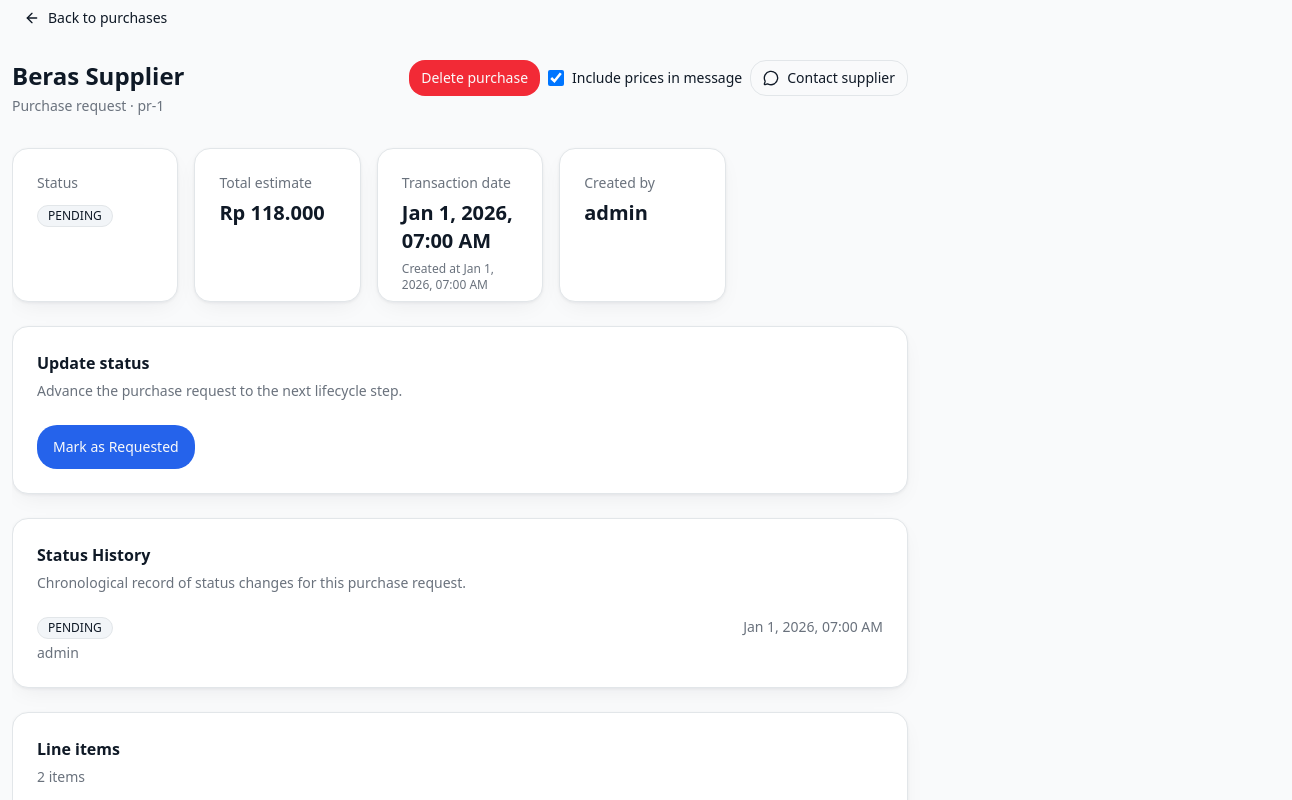
Test case: AdminPurchaseDetailContent › marks PENDING purchase as REQUESTED without opening photo modal
This screenshot has width=1292, height=800.
Expected: the heading "Beras Supplier" is shown, [12,60,184,92]
Click the button "Mark as Requested" at (116, 447), box [37,425,195,469]
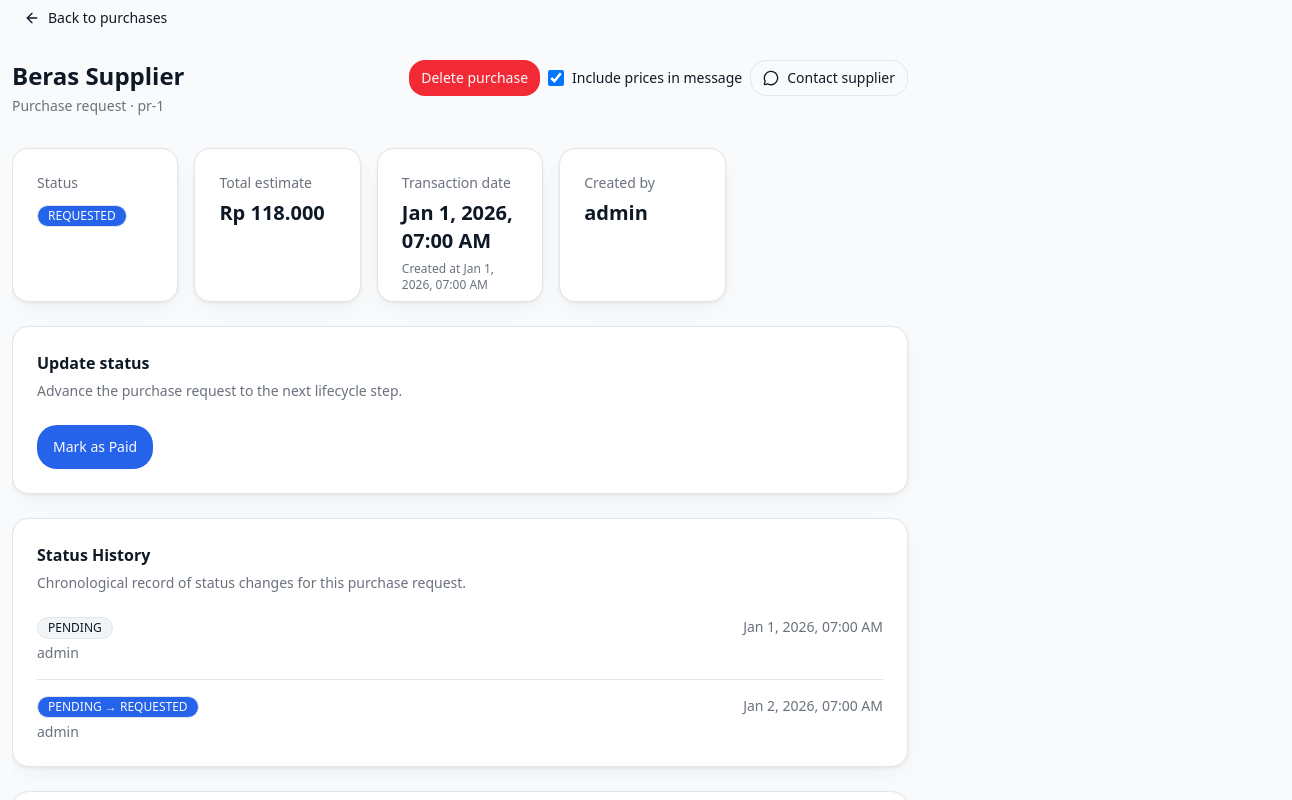
Expected: the text "REQUESTED" is shown, [37,205,127,227]
